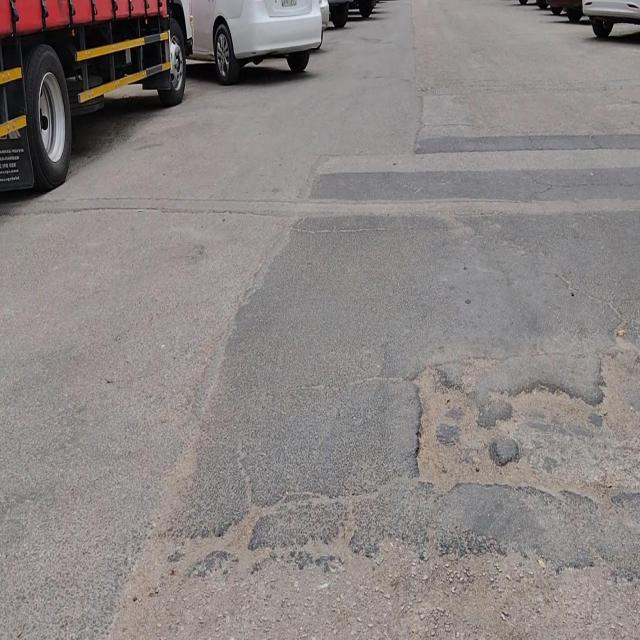Potholes: (410, 346, 640, 514)
